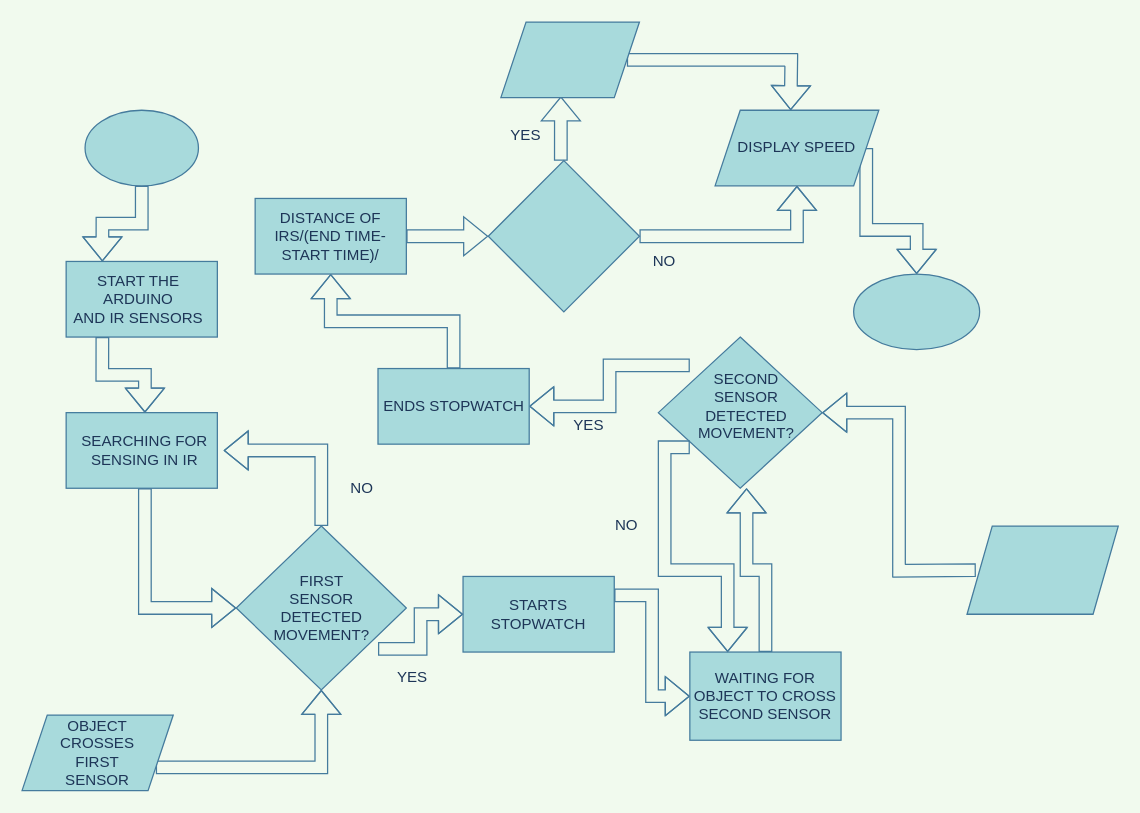
The diagram is 1140 pixels wide and 813 high, and some of its shapes have lost their labels. The shapes that lost their labels are listed below. From the top down, each one's box as (x1, y1, x2, y2) in pixels, then its label:
(500, 21, 639, 98): SOUND OF BUZZER OR ALARM
(84, 109, 198, 186): START
(487, 159, 639, 312): IS VALUE MORE THAN LIMIT?
(852, 273, 980, 350): END
(966, 525, 1118, 614): OBJECT CROSSES SECOND SENSOR
